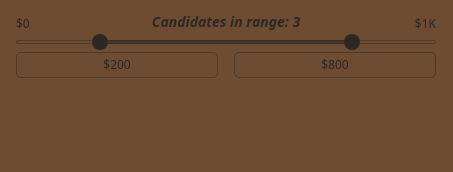
Test case: CandidateRangeSlider › updates live count and input during drag without committing, then commits on pointer up
Press the mouse on the slider named "Minimum total spending" at [100, 42], box [92,34,108,50]
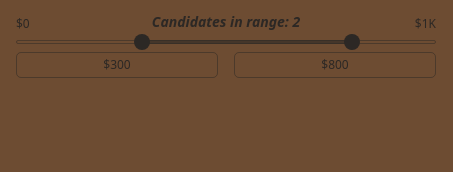
Check: the text "Candidates in range: 2" is shown, box [152,12,300,32]
Check: the field named "Minimum total spending amount" holds "$300", box [16,52,218,78]
